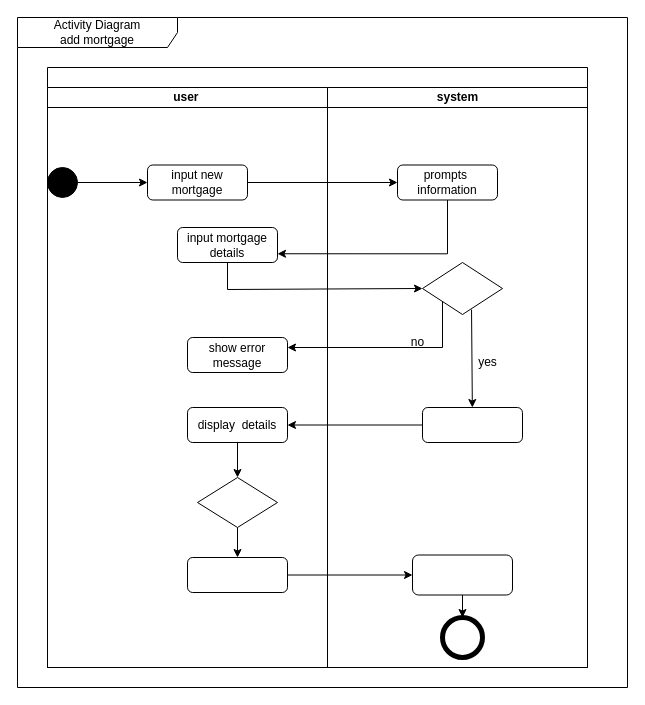
Image size: 645x705. Some labels were removed from this diagram. The shapes that lost their labels are listed below. From the top down, each one's centre as x and y in pixels, then its label:
At point 462,288: "valid?".
At point 472,424: "calculate mortgage details".
At point 237,574: "save details".
At point 462,574: "add transaction".
